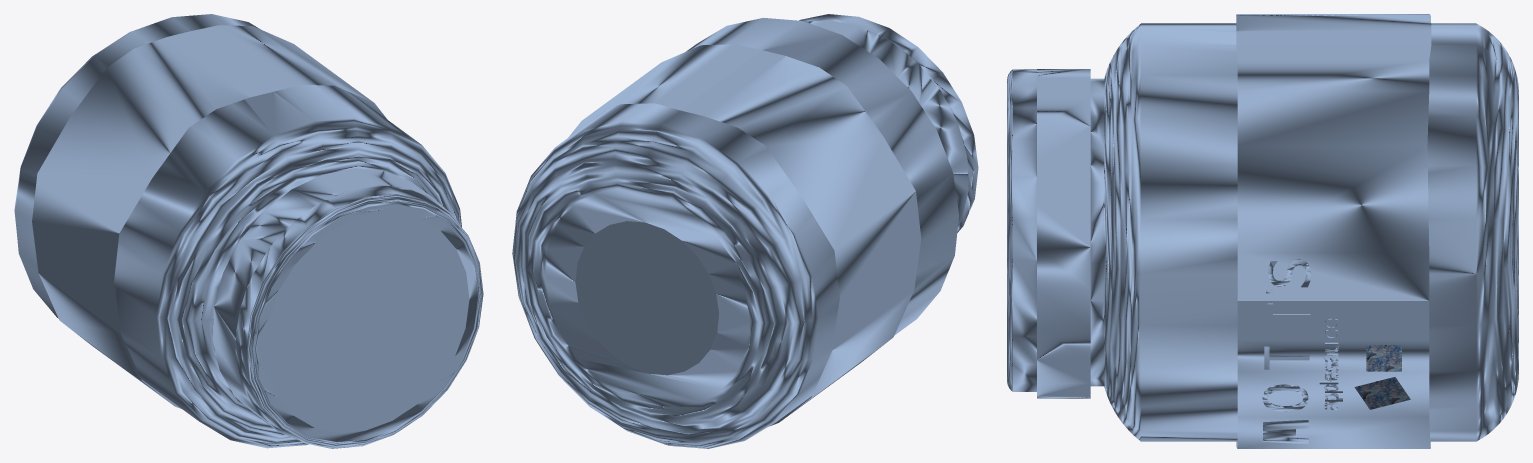
The model's file is model_align.obj.
The picture shows the model from 3 angles, left to right: view 1: azimuth 30°, elevation 25°; view 2: azimuth 150°, elevation 25°; view 3: azimuth 270°, elevation 25°; orthographic projection. The views are drawn at different scales.
Size of the model in its own units: 0.092 by 0.0908 by 0.1096.
